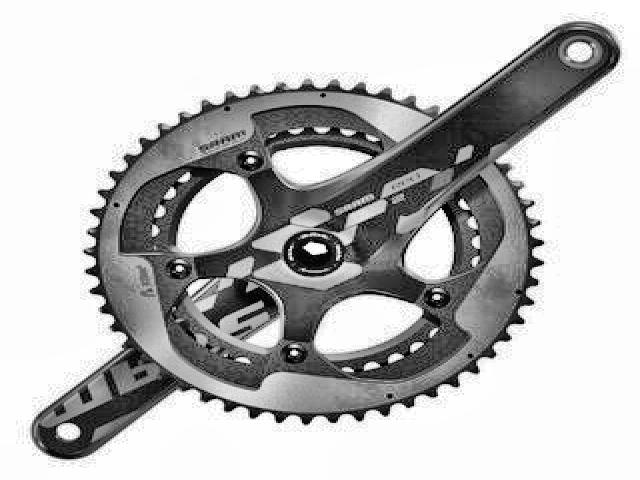cranks_set: (88, 20, 623, 420)
